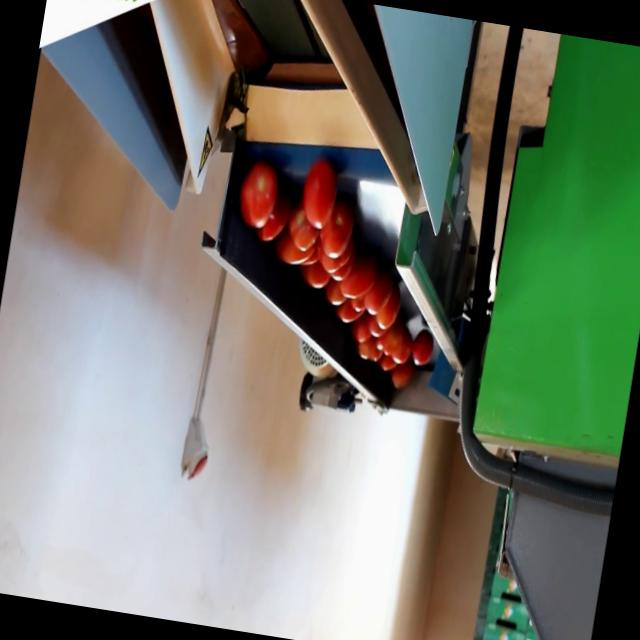Tomato: (234, 152, 286, 232), (298, 154, 342, 232), (282, 197, 322, 252), (321, 209, 356, 260), (338, 257, 376, 303), (408, 320, 440, 372), (274, 243, 314, 269), (366, 280, 393, 317), (381, 294, 406, 332), (355, 337, 381, 366), (337, 300, 363, 328), (388, 338, 412, 367), (306, 264, 330, 292), (389, 364, 413, 390)
